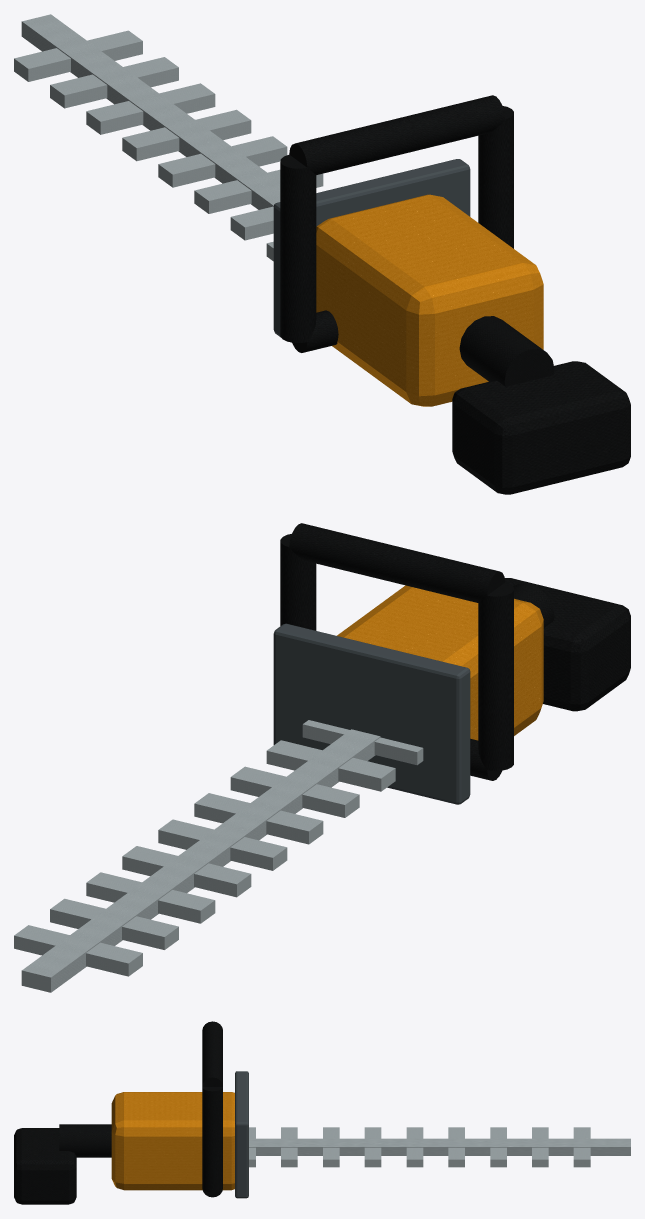
Rendered from CordlessHedgeTrimmer.gltf.
3 renders of one model, top to bottom at view 1: azimuth 30°, elevation 25°; view 2: azimuth 150°, elevation 25°; view 3: azimuth 270°, elevation 25°, orthographic. The views are drawn at different scales.
Visible parts, largest first — view 1: CordlessHedgeTrimmer__Body; view 2: CordlessHedgeTrimmer__Body; view 3: CordlessHedgeTrimmer__Body.
Boxes of the visible parts, left/top/right/bottom form: CordlessHedgeTrimmer__Body: left=14, top=14, right=630, bottom=494; CordlessHedgeTrimmer__Body: left=14, top=523, right=630, bottom=992; CordlessHedgeTrimmer__Body: left=14, top=1021, right=630, bottom=1204.
Size of the model in its own units: 0.308 by 0.308 by 1.24.
2 materials, 1 textured.
